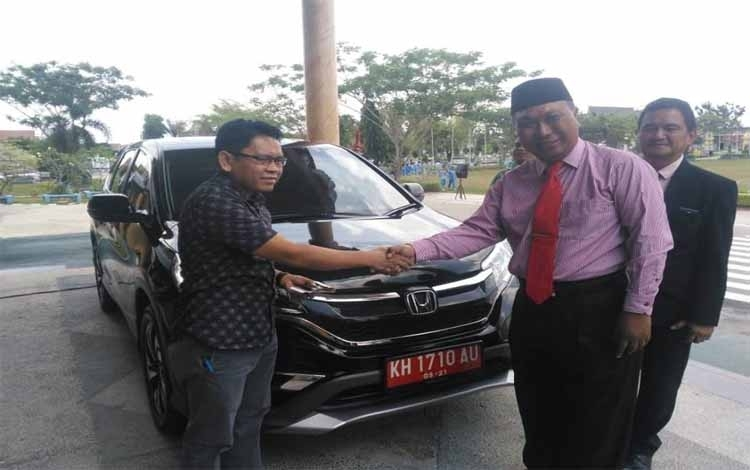plate: (387, 345, 482, 383)
